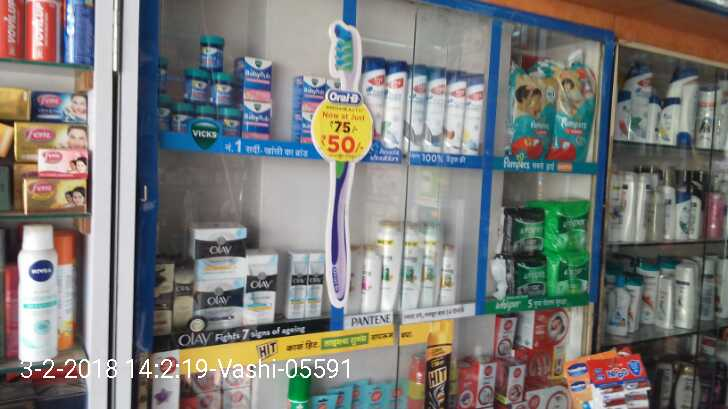beauty: (192, 229, 248, 278), (196, 277, 244, 327), (377, 218, 403, 309), (381, 60, 406, 152), (246, 254, 277, 323), (461, 73, 485, 154), (423, 64, 445, 152), (443, 68, 465, 153), (424, 221, 445, 305), (404, 222, 424, 310), (287, 253, 307, 318), (440, 242, 459, 300), (308, 253, 323, 316)
pharmacy: (508, 65, 552, 157), (551, 68, 593, 161), (542, 199, 590, 253), (495, 253, 550, 297), (500, 206, 546, 254), (548, 255, 590, 295), (182, 67, 211, 102), (198, 36, 224, 71), (208, 72, 232, 106)
